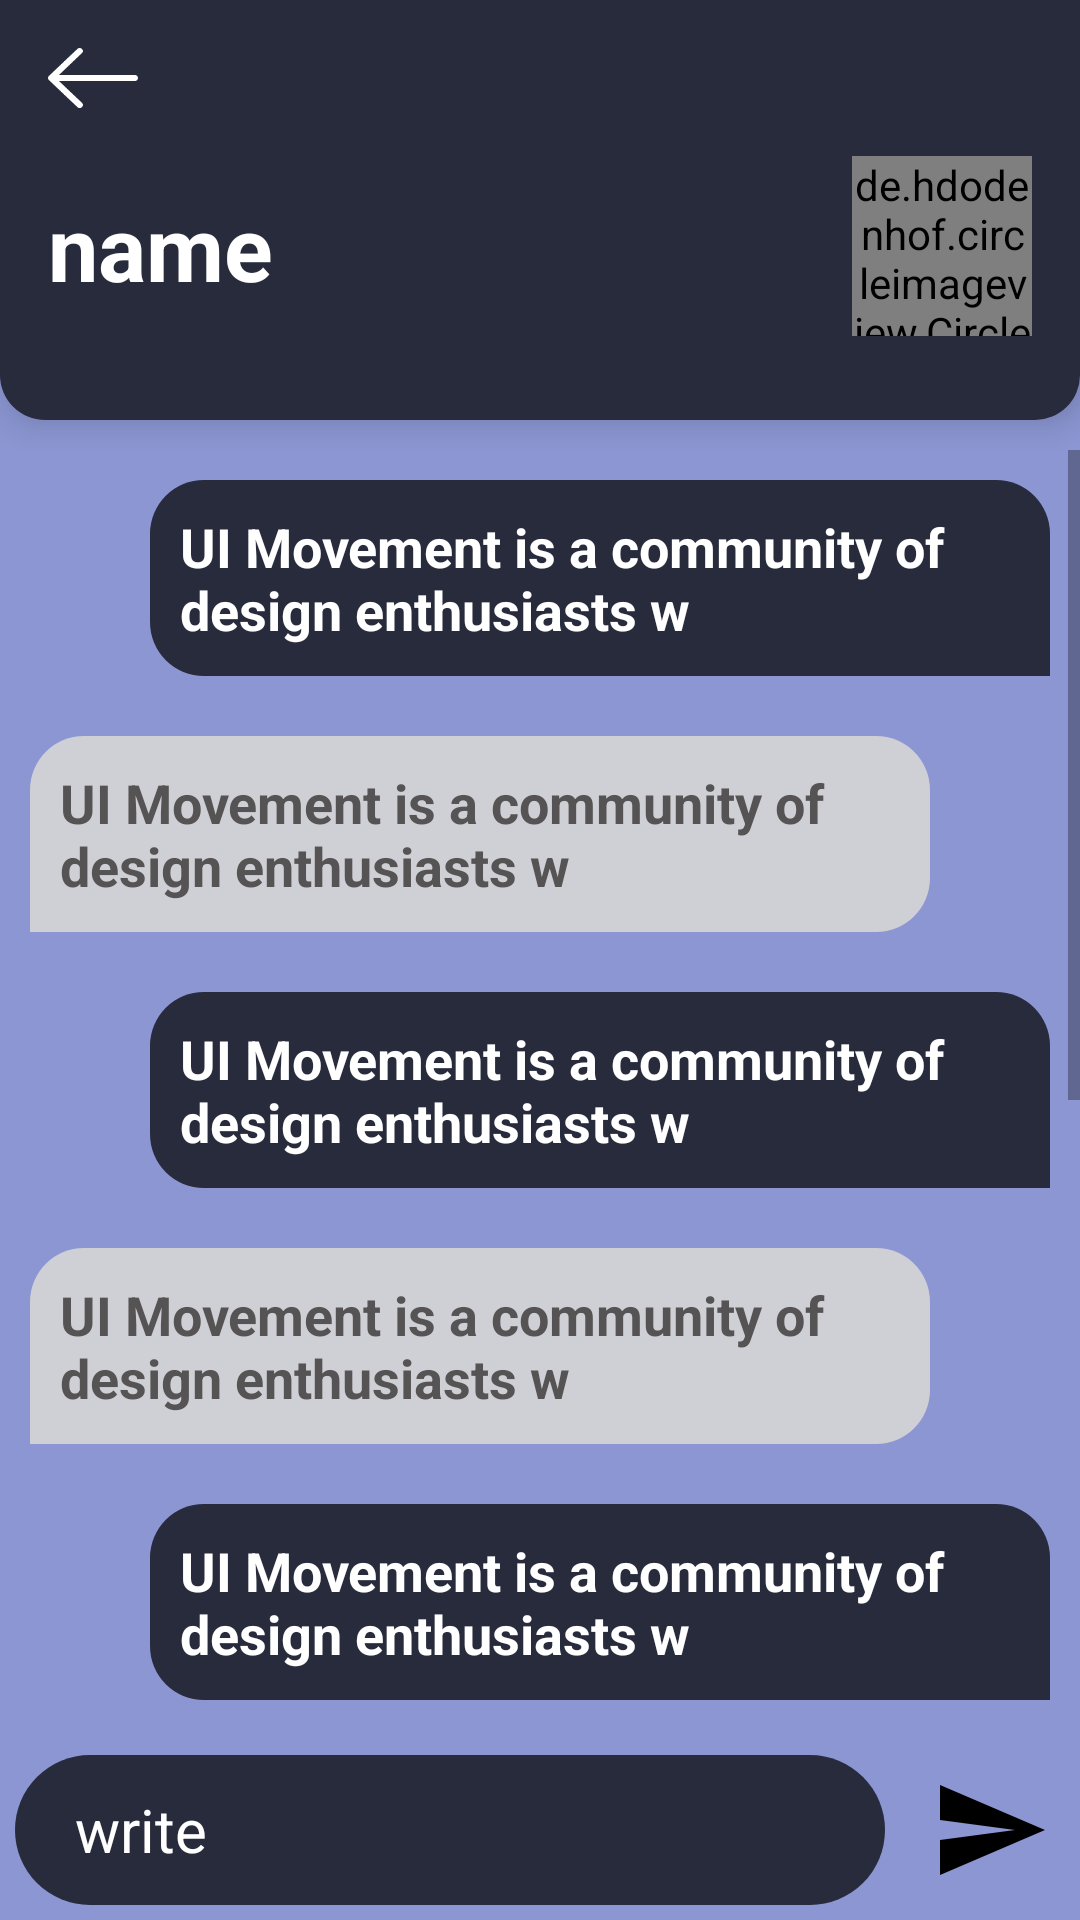

Icons on this 1080 x 1920 Android screen, each with the point to tap as point (x, y):
left arrow: point (93, 78)
send: point (992, 1830)
